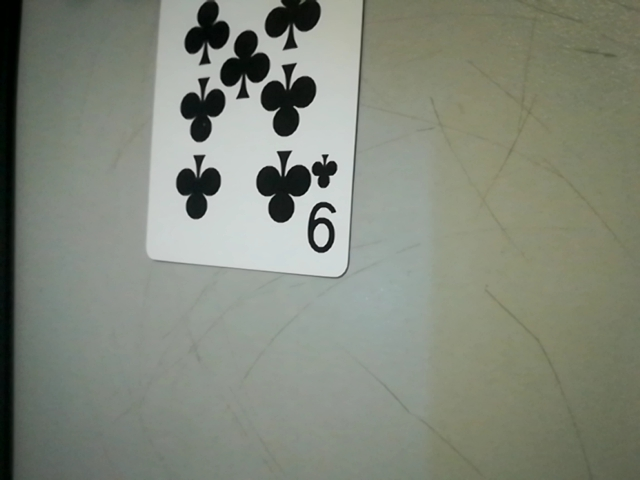mh 9: (298, 154, 350, 267)
